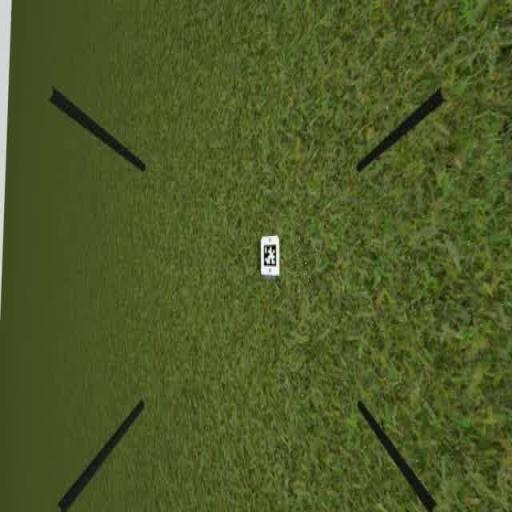UGV: (258, 231, 283, 282)
